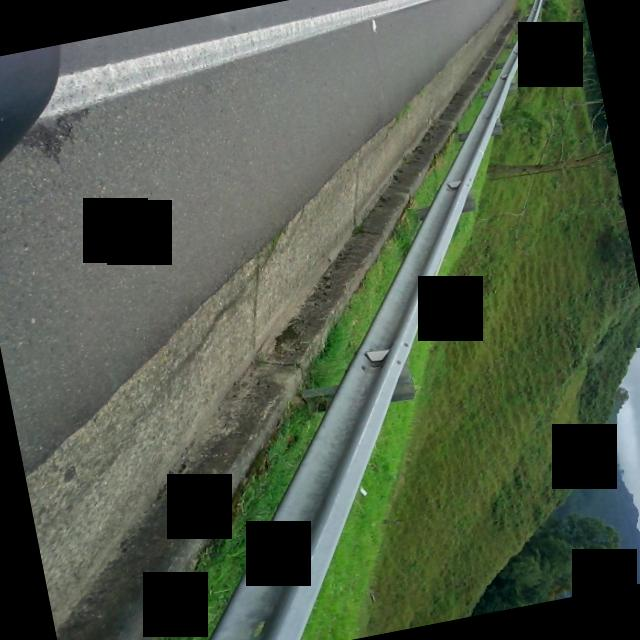DITCH: (0, 0, 640, 640), (0, 0, 608, 640), (0, 0, 602, 640)
